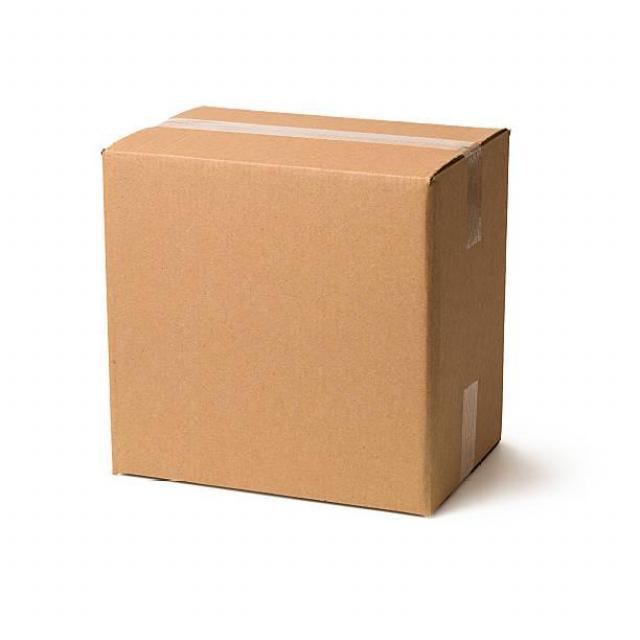box: (95, 96, 512, 526)
